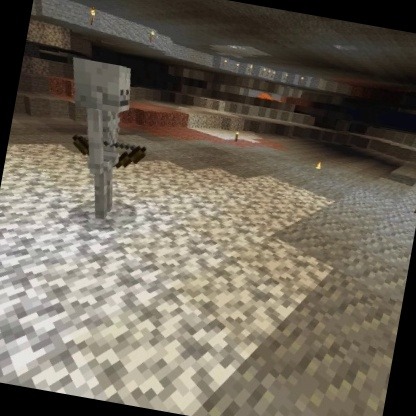skeleton: (41, 52, 164, 229)
